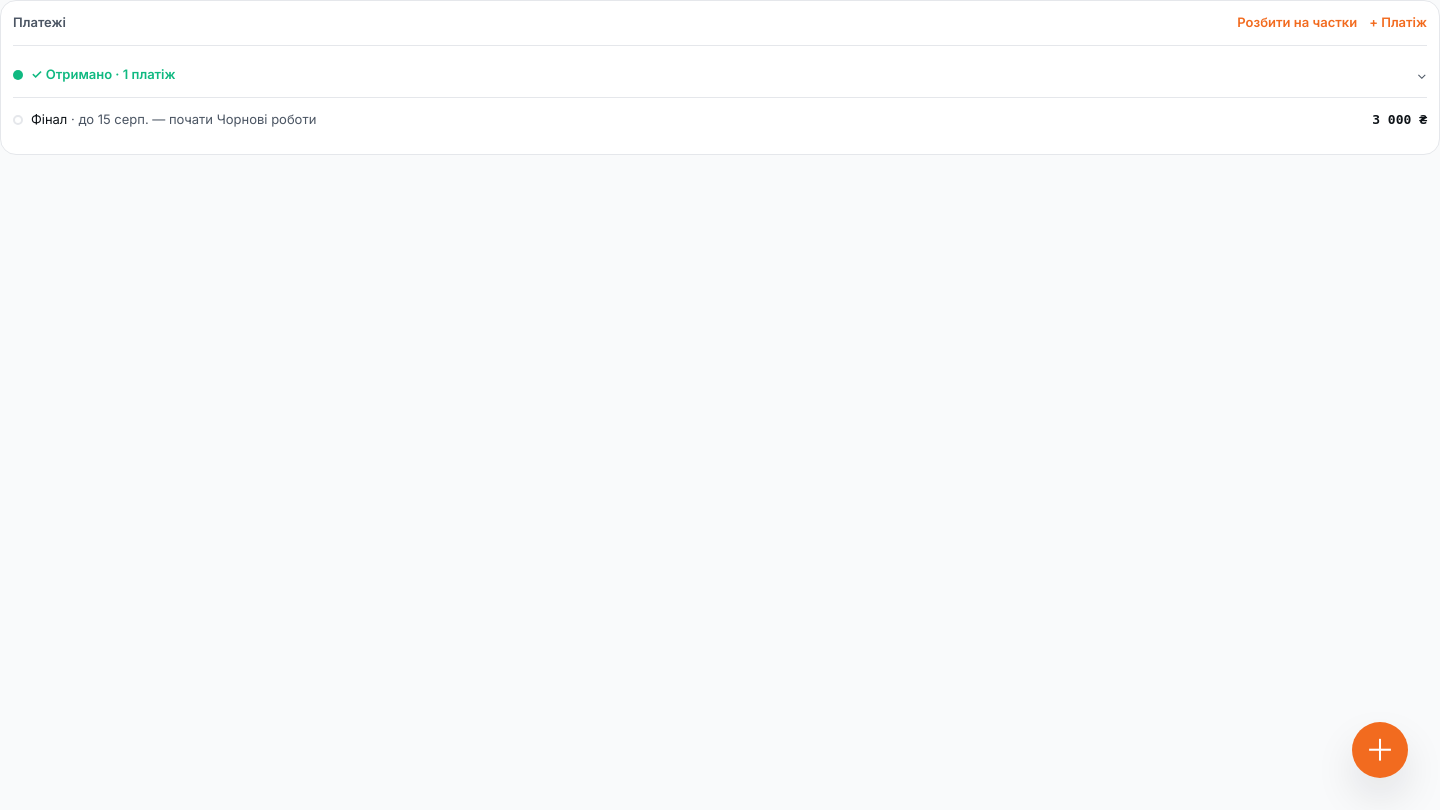
Test: PaymentsBlock — plan vs fact (payments PLAN/FACT split, V100) › a fully-received stage collapses into "✓ Отримано · 1", expandable to its own row
Expected: the text "Аванс" is not shown
Click the text "✓ Отримано · 1 платіж": (103,74) [31,66,176,82]
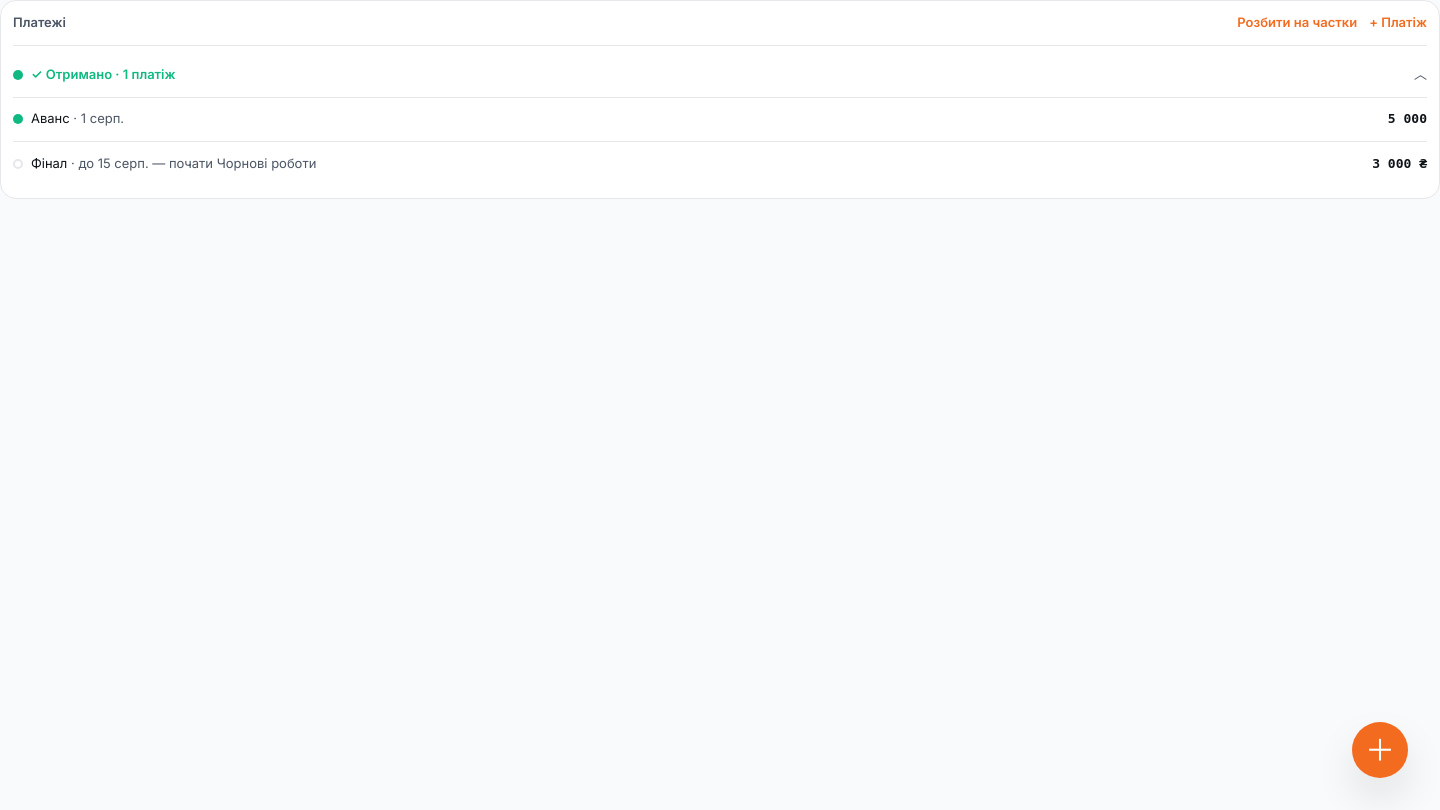
Expected: the text "Аванс" is shown, [31,110,70,126]
